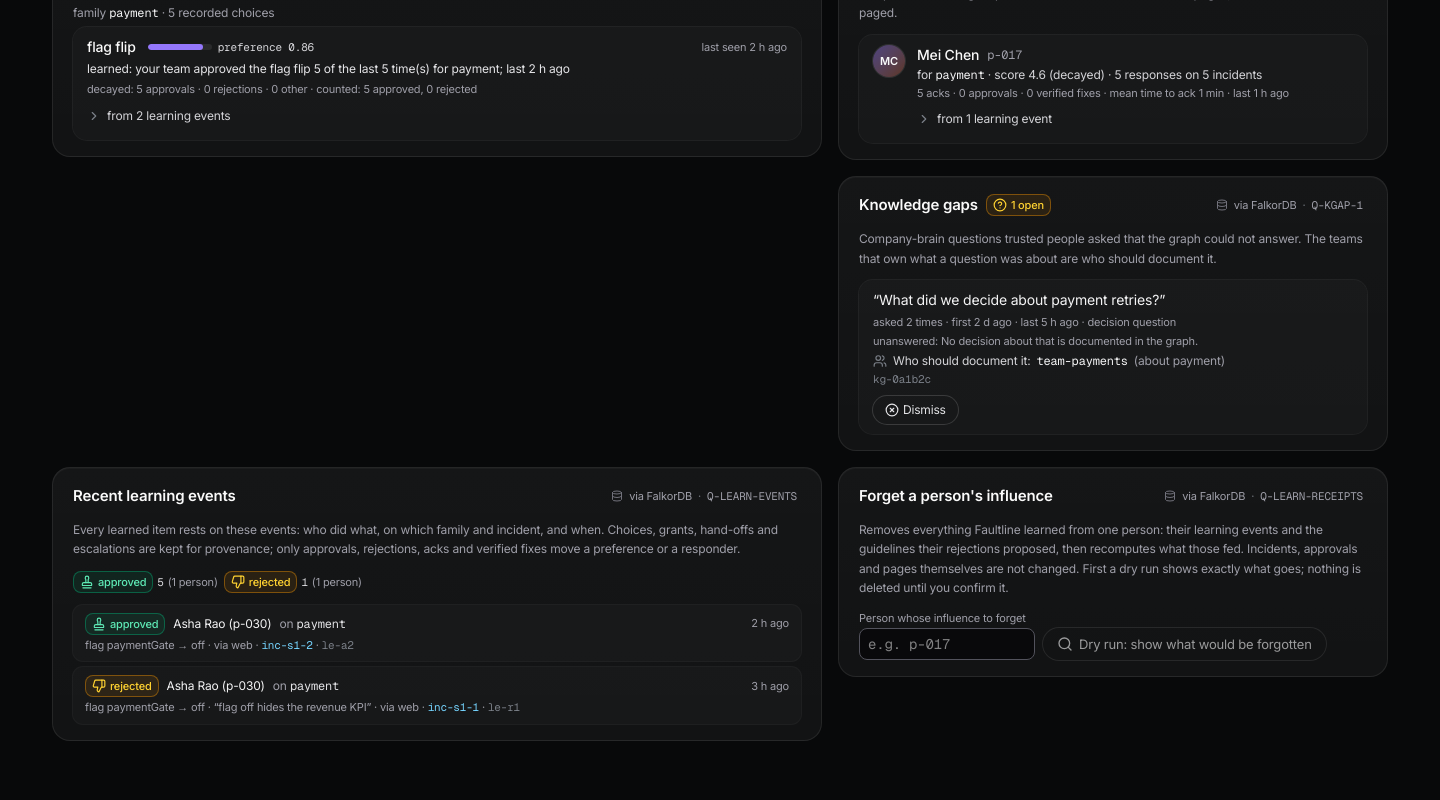
Test: What Faultline has learned › a person with nothing learned: the dry run says so and offers no confirm
The width and height of the screenshot is (1440, 800).
(page scrolled)
Step 1. Type "p-099" into the field labelled "Person whose influence to forget" → (947, 644), box [859,628,1035,660]
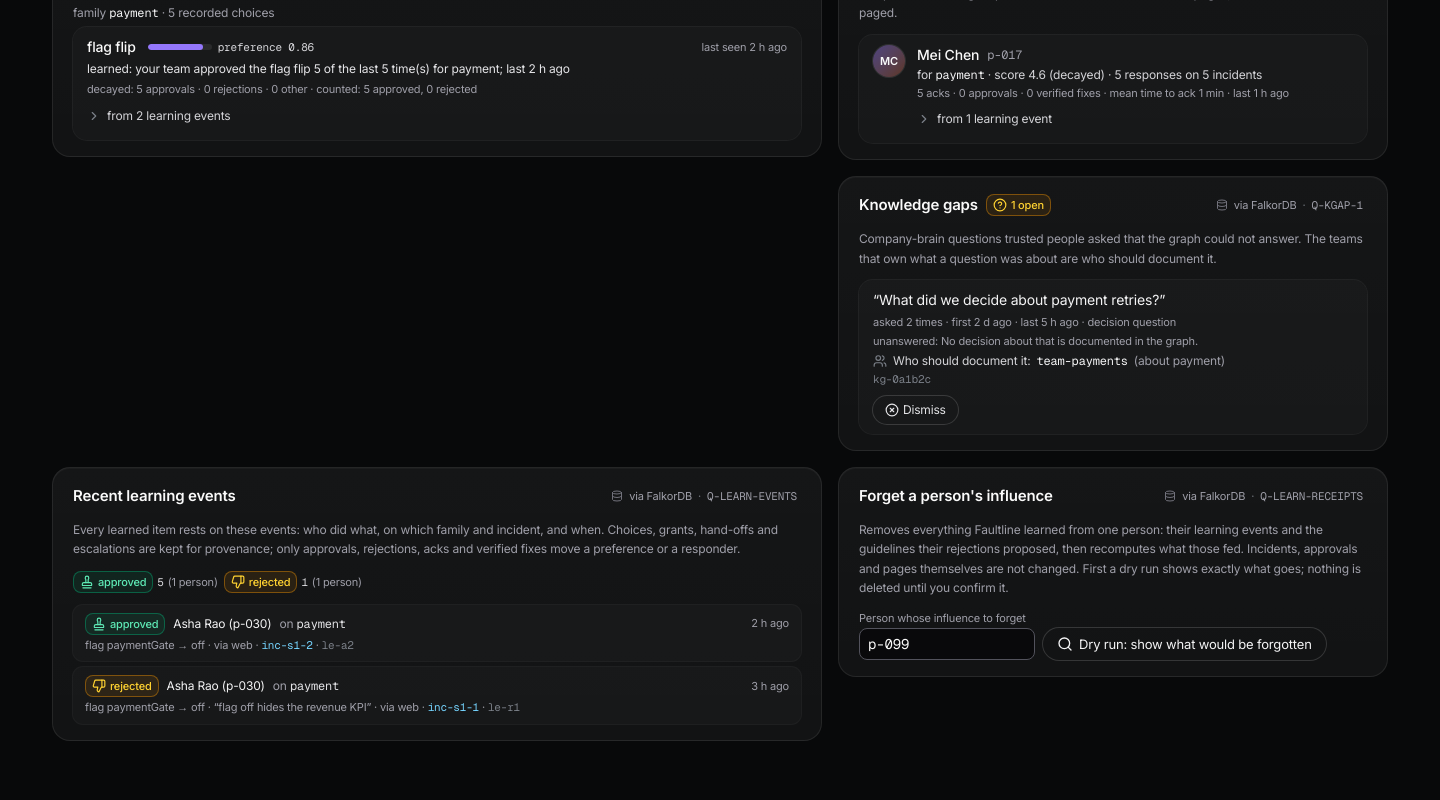
Step 2. Click the button "Dry run: show what would be forgotten" → (1184, 644), box [1043,628,1326,660]
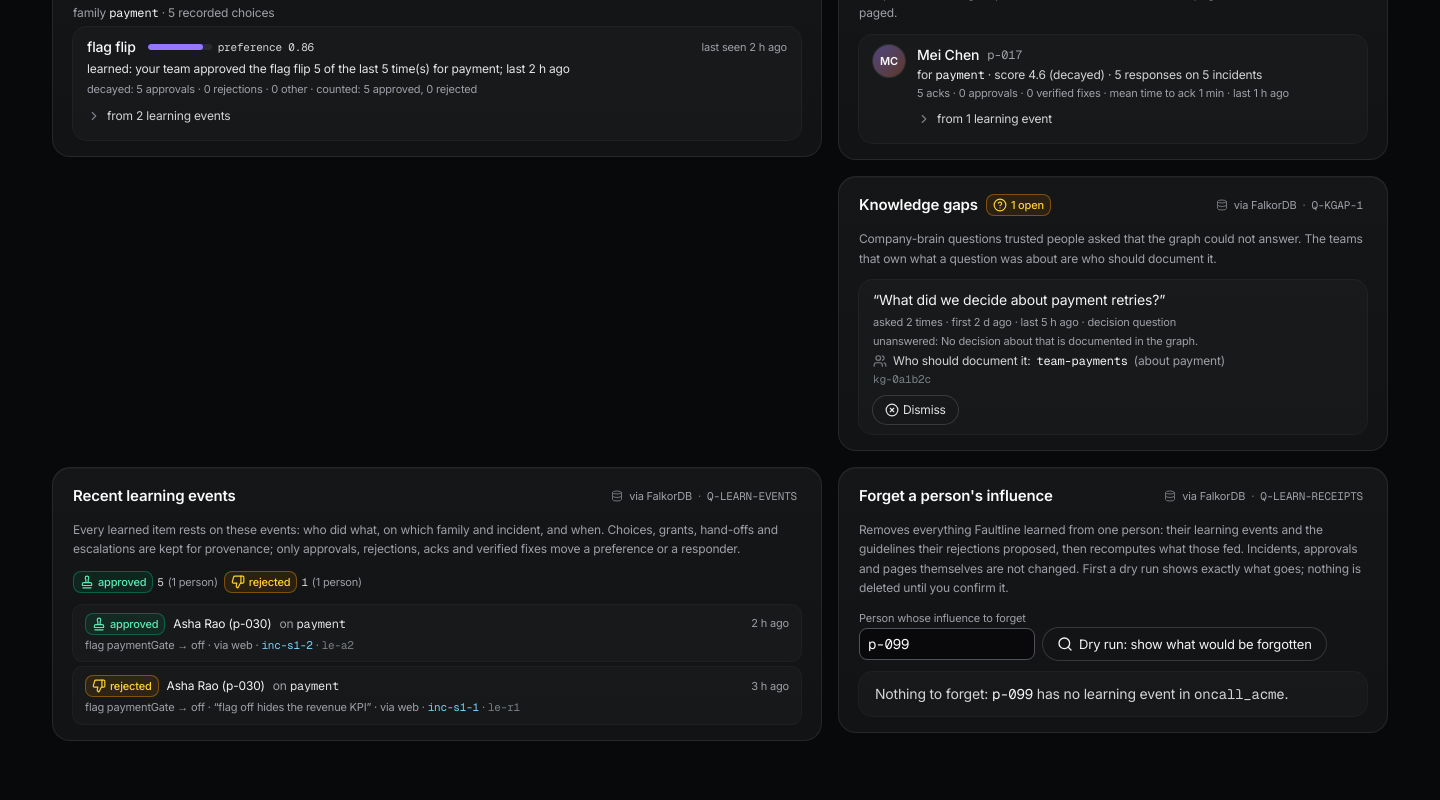
Check: the message shows "Nothing to forget: p-099 has no learning event in oncall_acme", box [859,672,1367,716]
